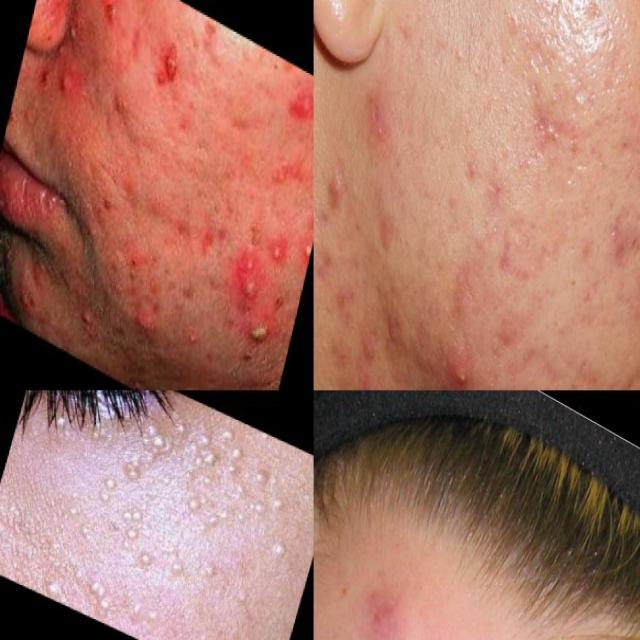acne_scars: (522, 98, 580, 186), (593, 208, 640, 294), (605, 324, 640, 390)
comedone: (552, 346, 603, 390), (571, 0, 608, 44)
milium: (165, 400, 252, 486), (159, 535, 227, 598), (176, 463, 233, 533), (120, 414, 170, 493), (60, 558, 122, 620), (238, 461, 292, 531), (50, 481, 104, 548), (123, 578, 173, 635), (111, 498, 147, 546), (91, 467, 121, 512), (262, 532, 292, 566), (134, 543, 154, 572)
papule: (353, 564, 412, 640), (142, 30, 192, 112), (278, 77, 313, 172), (50, 50, 90, 121), (120, 295, 160, 361), (68, 292, 101, 349)
pustule: (241, 303, 278, 366), (266, 228, 291, 277), (168, 362, 210, 390)
sebo-crystan-conglo: (228, 239, 265, 325), (438, 348, 490, 390), (344, 361, 408, 390)
